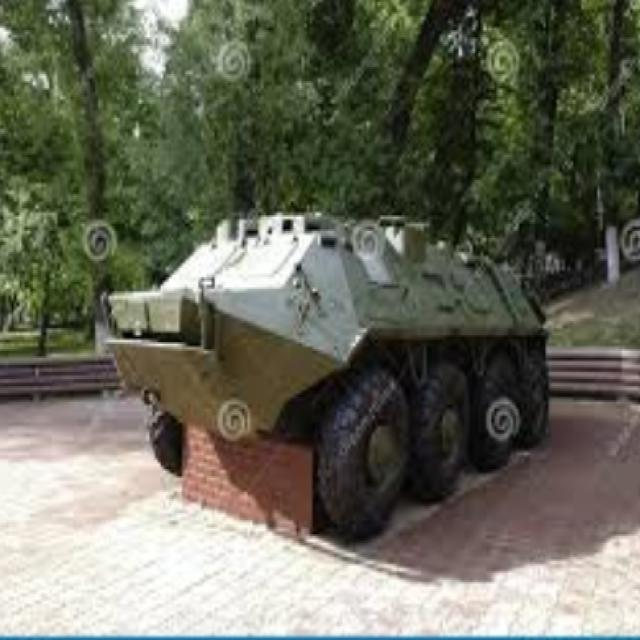MIL_APC: (97, 162, 557, 548)
